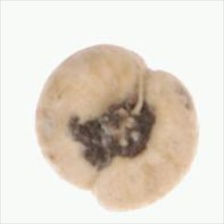L4: (35, 44, 199, 211)
